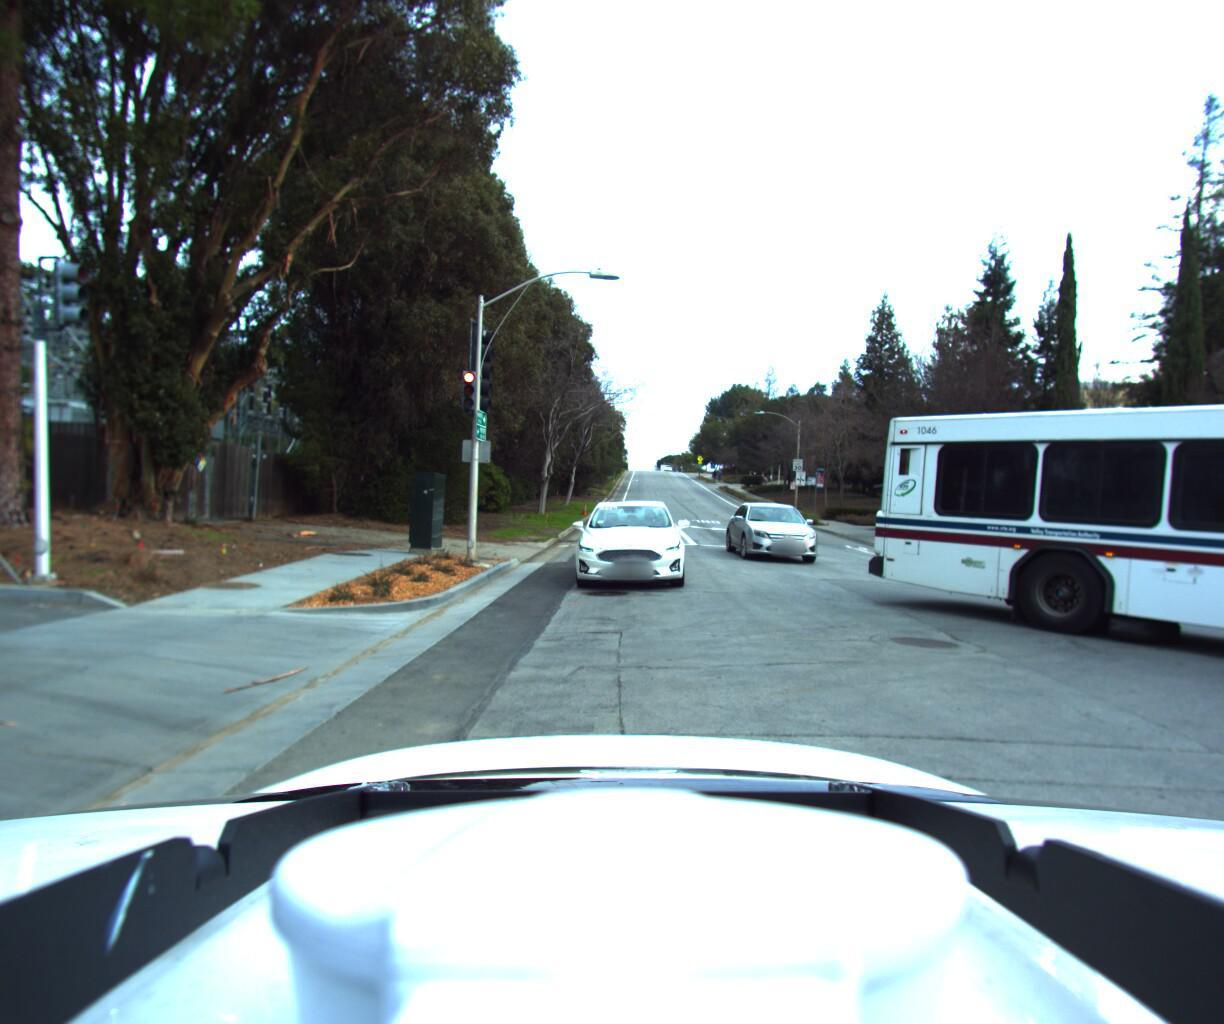bus: (861, 247, 1224, 1024)
car: (560, 488, 695, 597), (718, 497, 837, 567)
